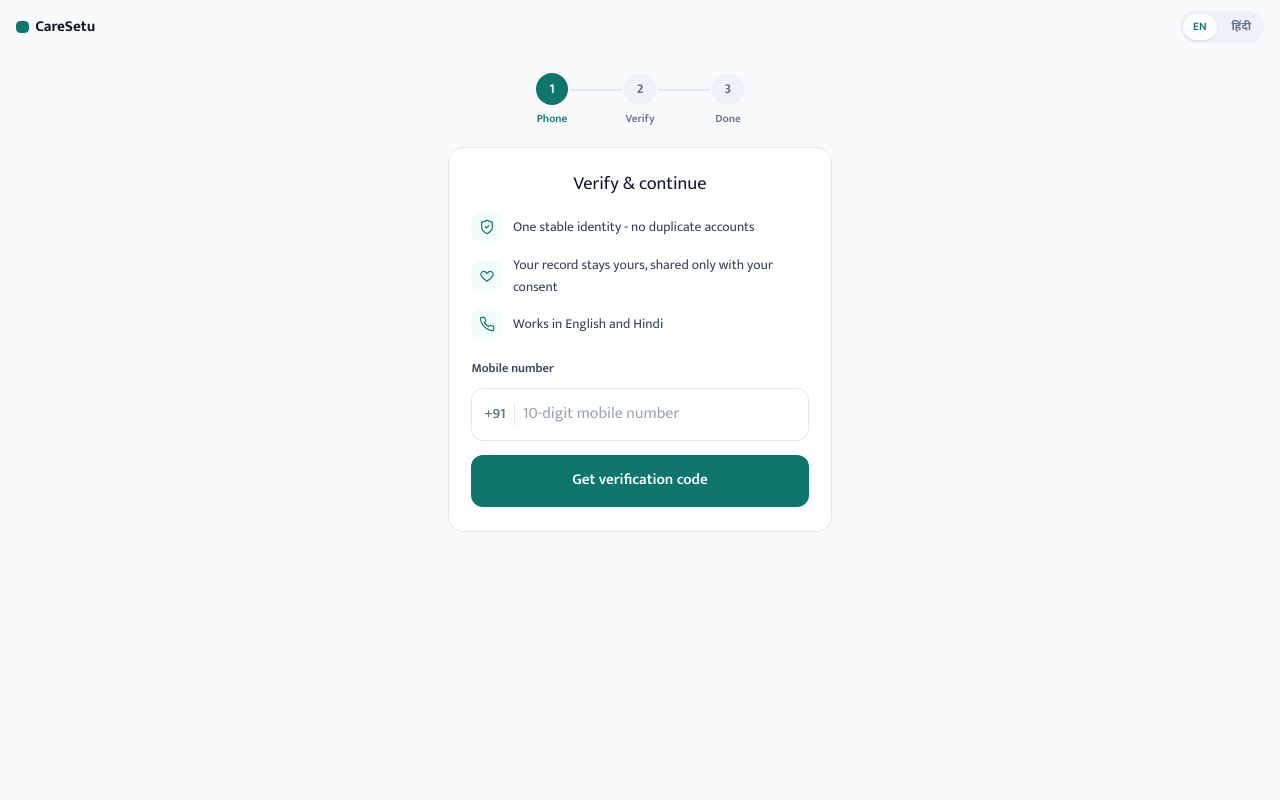
Test: PatientAuthWizard - phone step › shows the already-registered login notice for a duplicate number
Type "9876543210" into the field with placeholder "10-digit mobile number" at (659, 414), box [523,389,796,440]
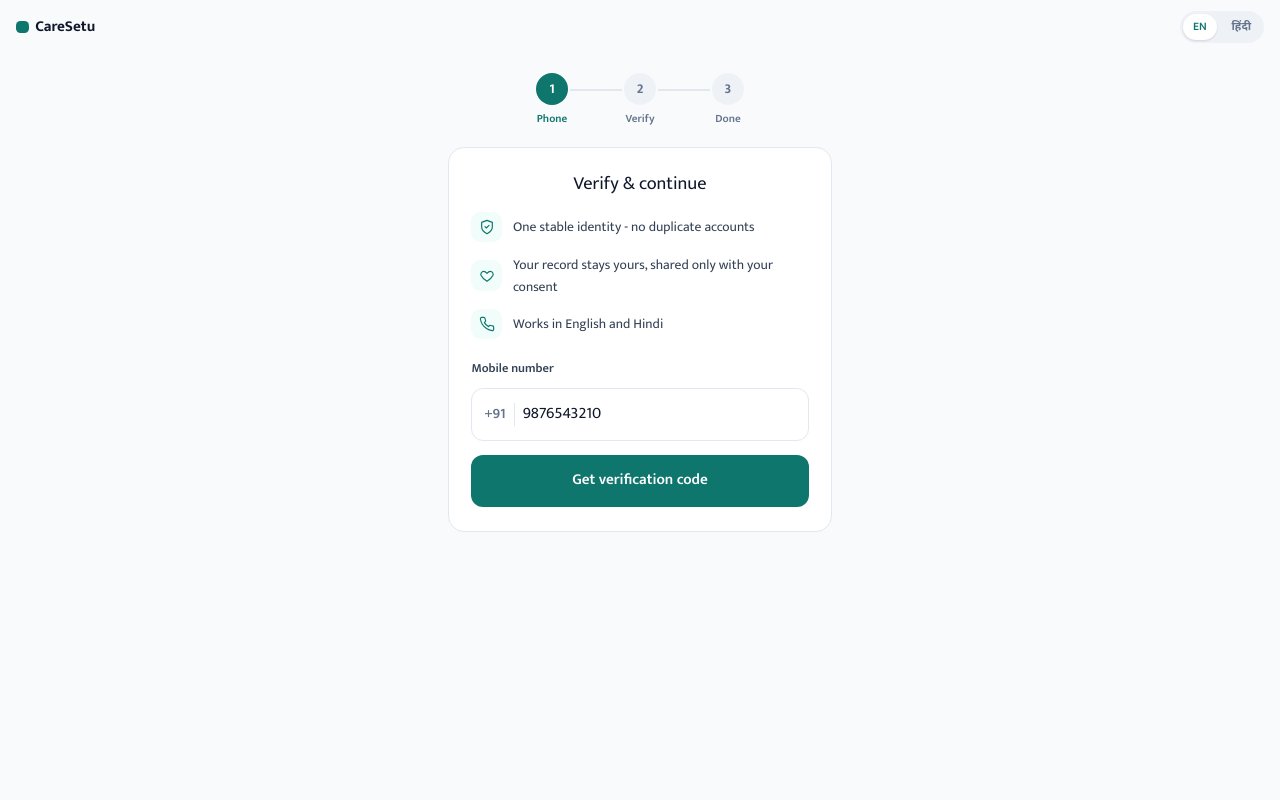
Click the button "Get verification code" at (640, 481), box [471,455,809,507]
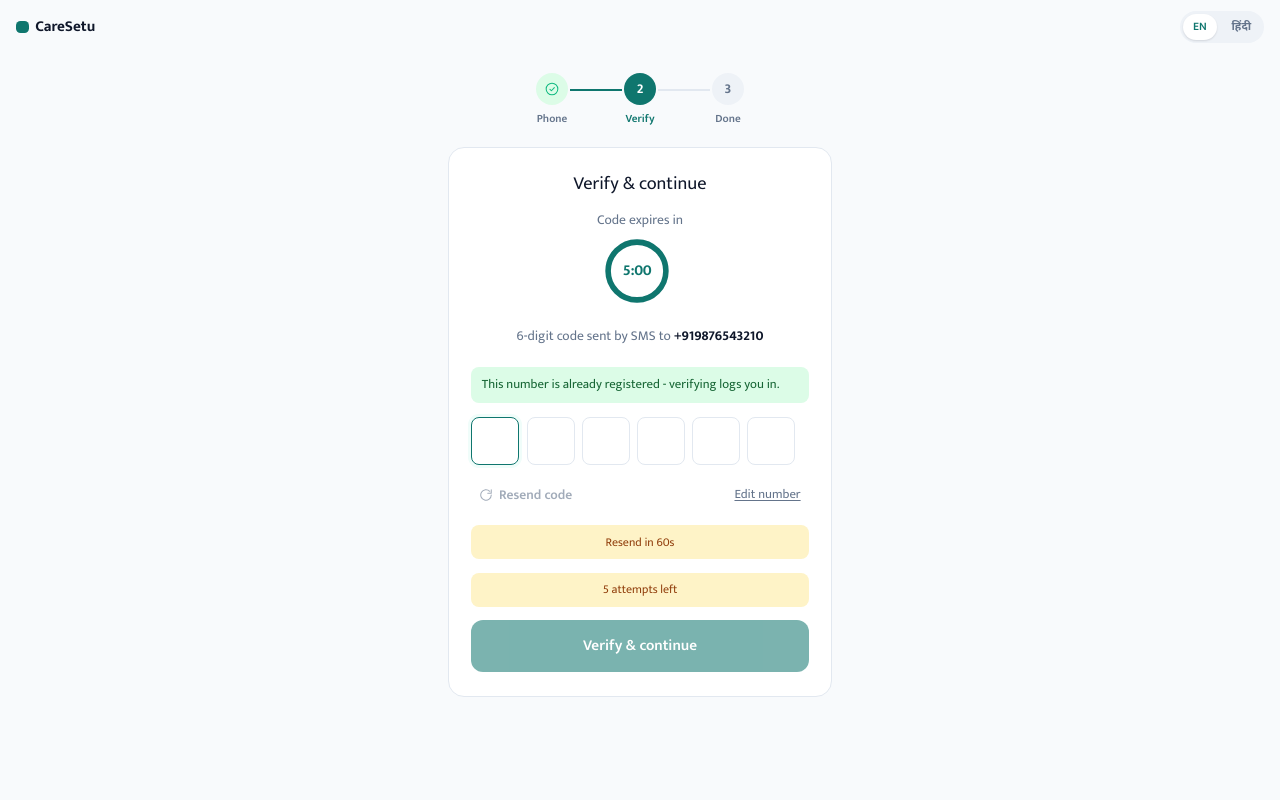
Expected: the text "This number is already registered - verifying logs you in." is shown, [471,367,809,403]
